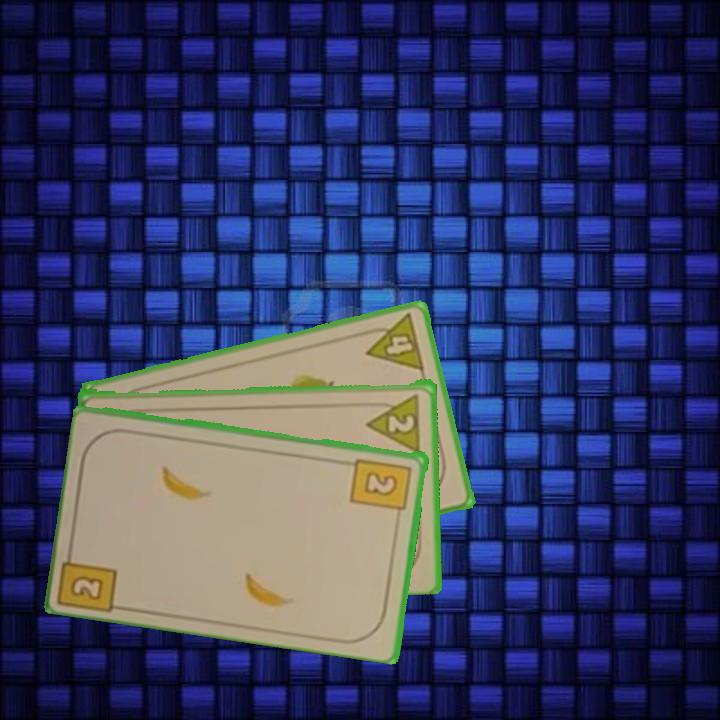2b: (348, 454, 415, 522), (58, 541, 121, 613)
2p: (363, 390, 423, 453)
4p: (358, 310, 427, 374)
